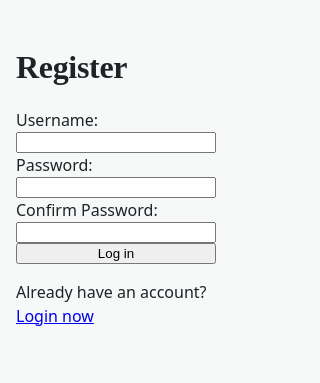
Scenario: RegisterPage validation › rejects a password shorter than 8 characters
The image size is (320, 383).
Type "alice" into the field labelled "Username:" at (116, 142), box [16, 132, 216, 153]
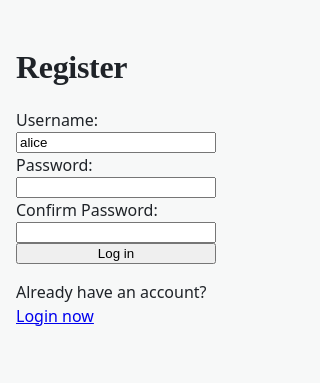
Type "Ab1!" into the password field labelled "Password:" at (116, 187), box [16, 177, 216, 198]
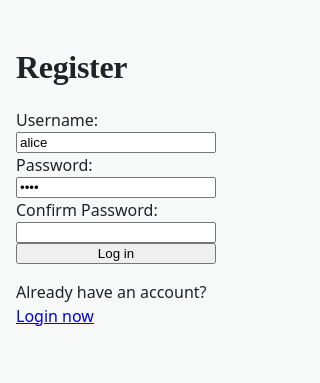
Type "Ab1!" into the password field labelled "Confirm Password:" at (116, 232), box [16, 222, 216, 243]
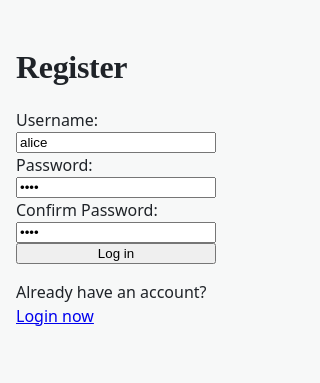
Click the button "Log in" at (116, 253), box [16, 243, 216, 264]
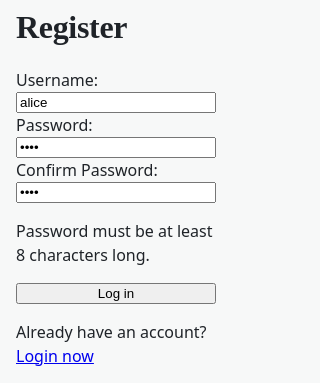
Now the text "Password must be at least 8 characters long." is shown, box [16, 219, 216, 267]
